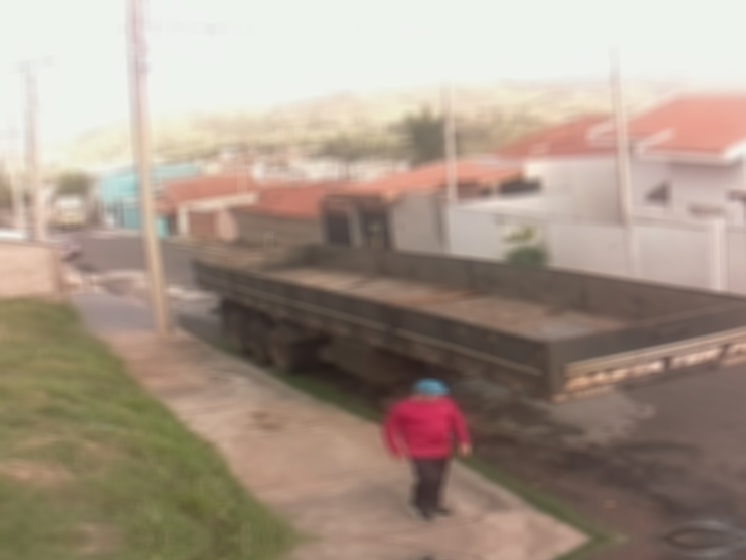person: (382, 376, 472, 560)
